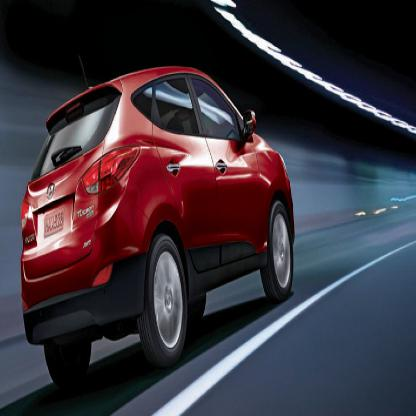Vehicle: (20, 62, 295, 370)
